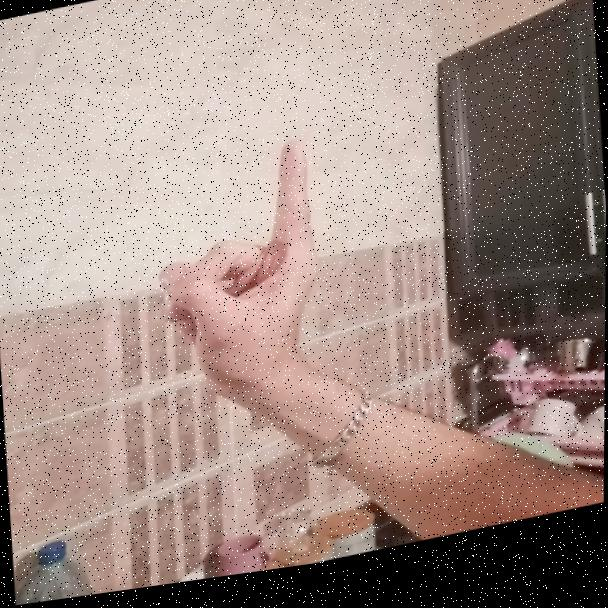one: (146, 129, 353, 409)
